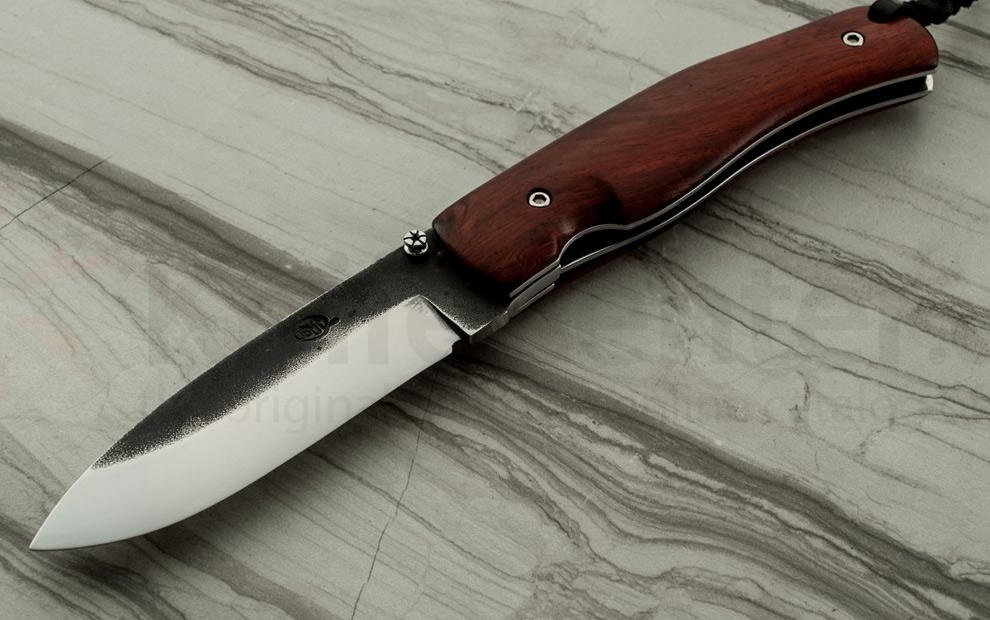knife: (11, 206, 550, 567)
